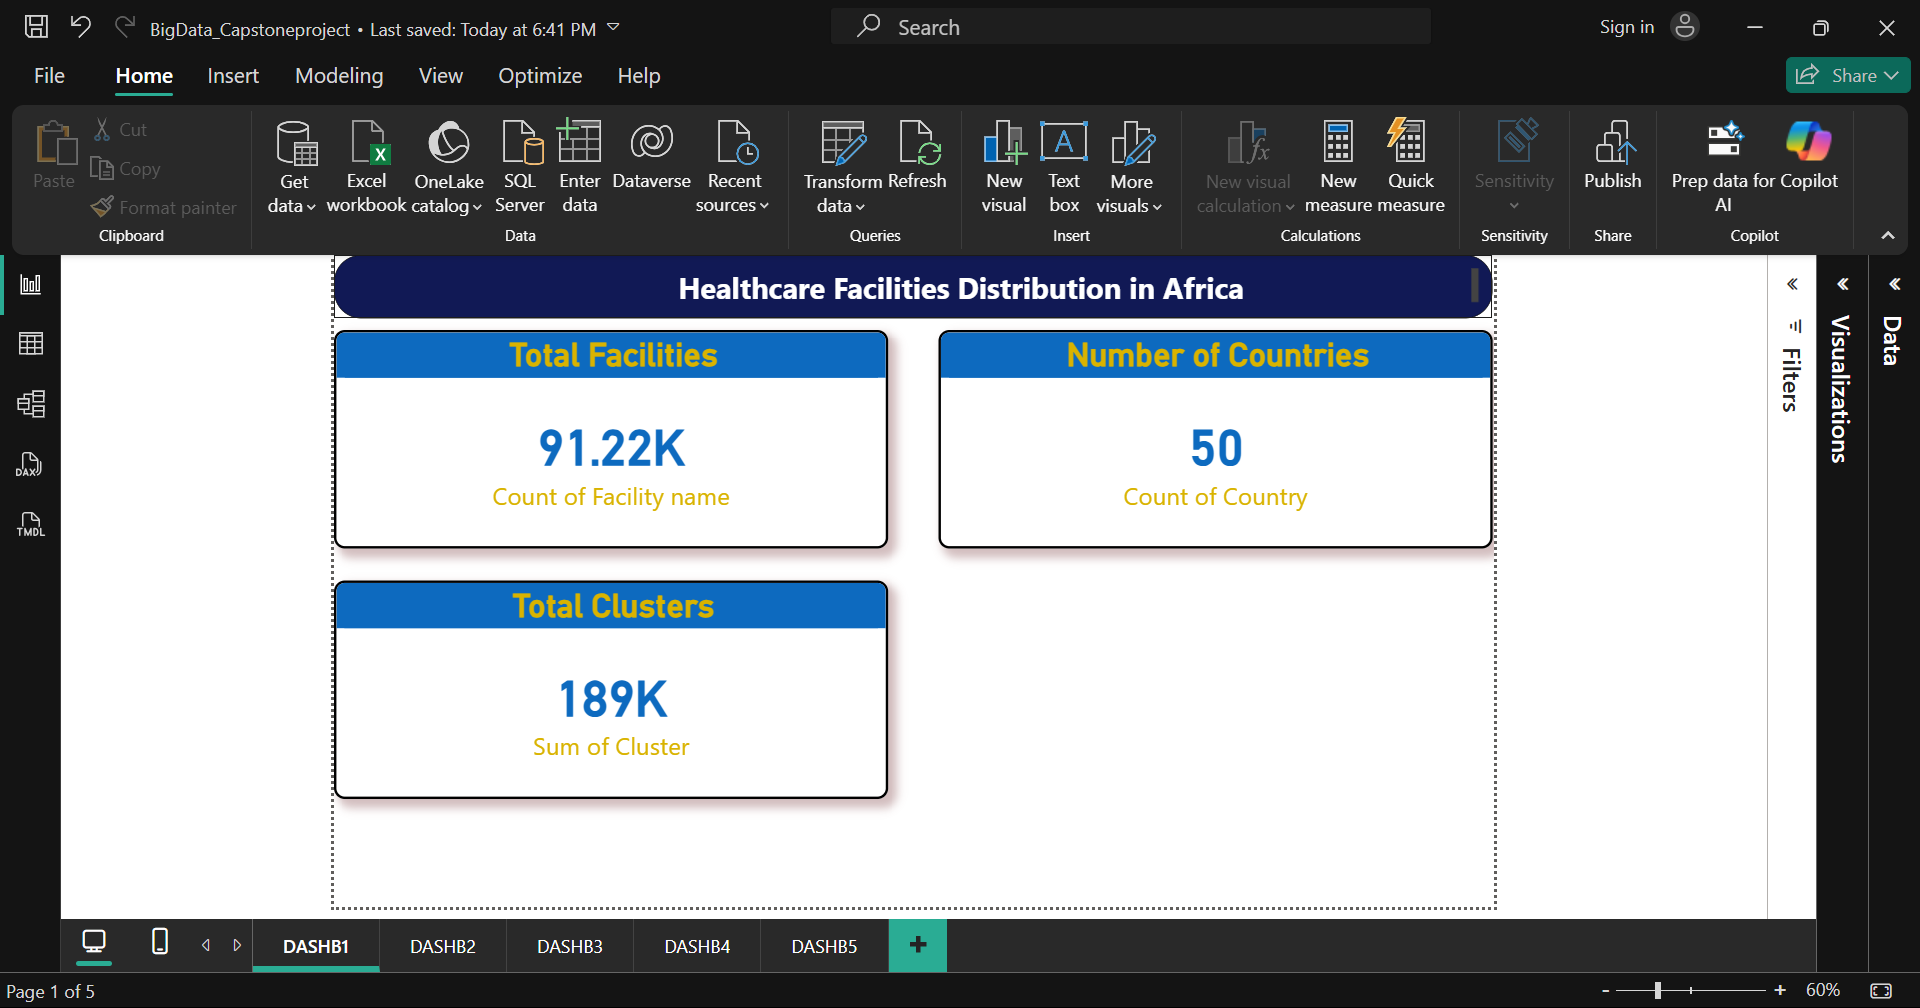

Layout of this report page (visuals, bound fields, positions):
{"tool":"powerbi","page":{"name":"DASHB1","canvas":[1280,720],"ordinal":0},"visuals":[{"type":"textbox","box":[10,0,280,280],"z":0},{"type":"textbox","box":[0,0,1279.4,69.9],"z":1000},{"type":"textbox","box":[10,290,280,280],"z":2000},{"type":"card","title":"Total Facilities","fields":{"Values":["Count(cfa_clustered.Facility name)"]},"box":[0,83.6,612.1,241.4],"z":3000},{"type":"card","title":"Number of Countries","fields":{"Values":["Count(cfa_clustered.Country)"]},"box":[667.3,83.6,612.1,241.4],"z":4000},{"type":"card","title":"Total Clusters","fields":{"Values":["Sum(cfa_clustered.Cluster)"]},"box":[0,359.3,612.1,241.4],"z":5000}]}

Visuals, with their boxes on the page's 1280x720 design canvas (x1, y1, x2, y2). These are canvas units, not pixel positions in the 1920x1008 screenshot, which may show the page scaled, cropped or inside an application window:
textbox: x1=10, y1=0, x2=290, y2=280
textbox: x1=0, y1=0, x2=1279, y2=70
textbox: x1=10, y1=290, x2=290, y2=570
"Total Facilities" card: x1=0, y1=84, x2=612, y2=325
"Number of Countries" card: x1=667, y1=84, x2=1279, y2=325
"Total Clusters" card: x1=0, y1=359, x2=612, y2=601
